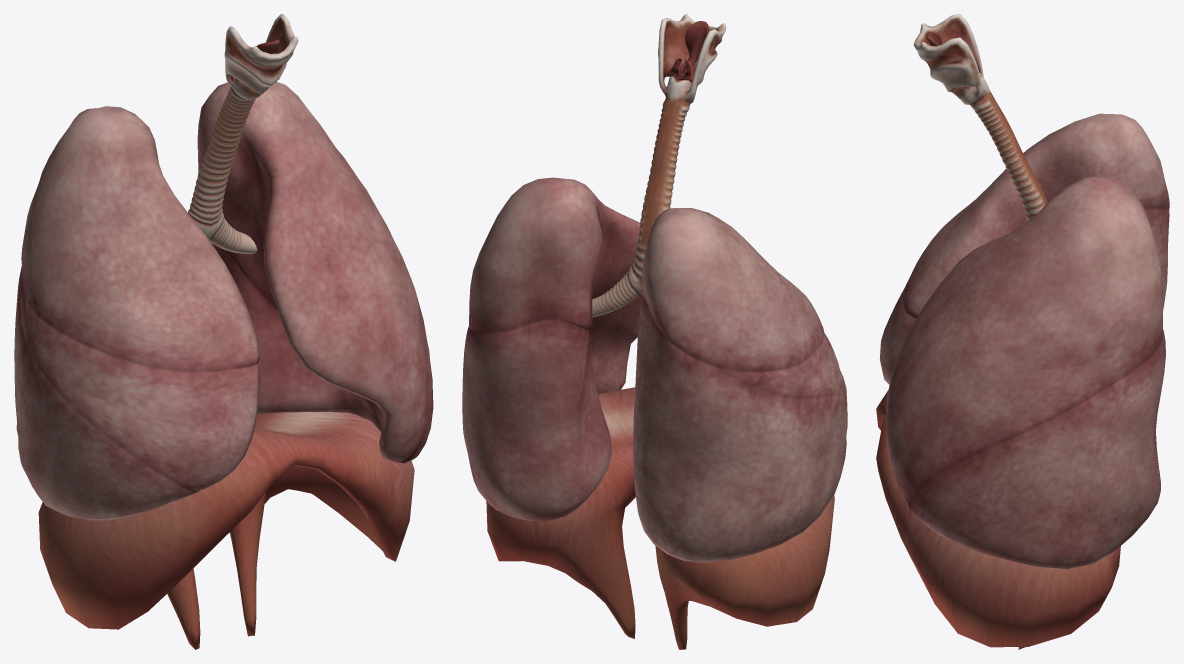
File: animation_baked.fbx
The picture shows the model from 3 angles, left to right: view 1: azimuth 30°, elevation 25°; view 2: azimuth 150°, elevation 25°; view 3: azimuth 270°, elevation 25°; orthographic projection. The views are drawn at different scales.
Visible parts, largest first — view 1: polySurface8, polySurface7; view 2: polySurface8, polySurface7, polySurface4; view 3: polySurface8, polySurface7.
Part boxes in pixels (x1=…): polySurface8: x1=14, y1=81, x2=433, y2=649; polySurface7: x1=188, y1=14, x2=298, y2=254; polySurface8: x1=462, y1=177, x2=847, y2=649; polySurface7: x1=592, y1=14, x2=726, y2=317; polySurface4: x1=675, y1=21, x2=708, y2=80; polySurface8: x1=876, y1=113, x2=1169, y2=649; polySurface7: x1=913, y1=14, x2=1047, y2=220.
Size of the model in its own units: 6.48 by 10.95 by 4.77.
1 material, 1 textured.
